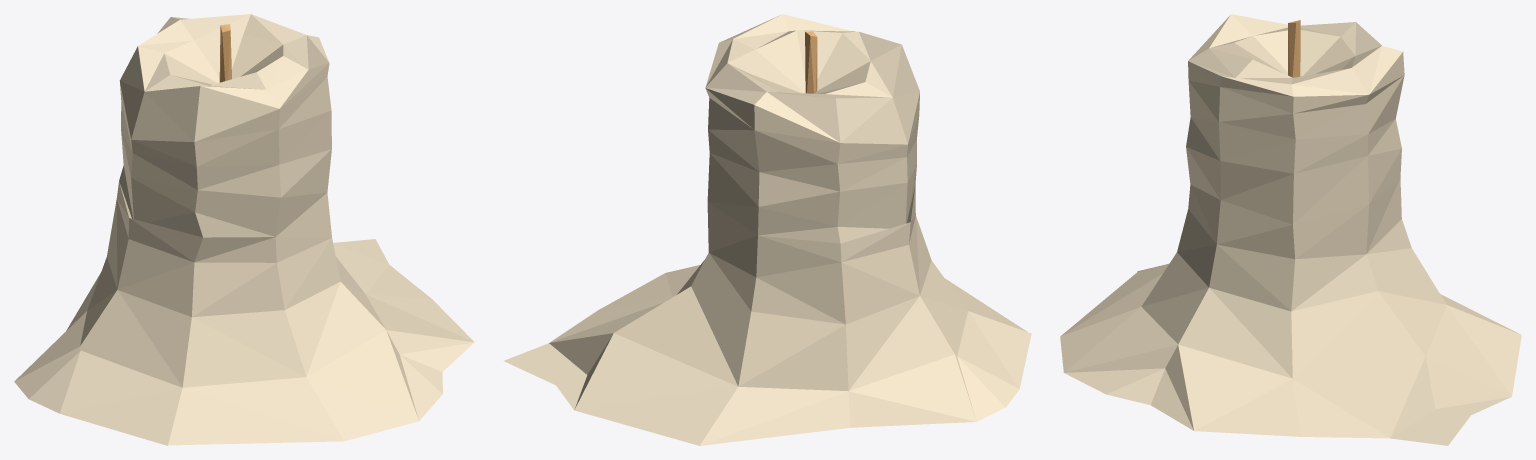
The model's file is AWS_Candle_S_001.fbx.
The picture shows the model from 3 angles, left to right: view 1: azimuth 30°, elevation 25°; view 2: azimuth 150°, elevation 25°; view 3: azimuth 270°, elevation 25°; orthographic projection. The views are drawn at different scales.
Visible parts, largest first — view 1: AWS_Candle_S_001; view 2: AWS_Candle_S_001; view 3: AWS_Candle_S_001.
Boxes of the visible parts, x1,y1,x2,y2 form: AWS_Candle_S_001: (14, 14, 474, 445); AWS_Candle_S_001: (504, 14, 1031, 445); AWS_Candle_S_001: (1060, 14, 1521, 445).
Size of the model in its own units: 15.85 by 11.65 by 15.37.
